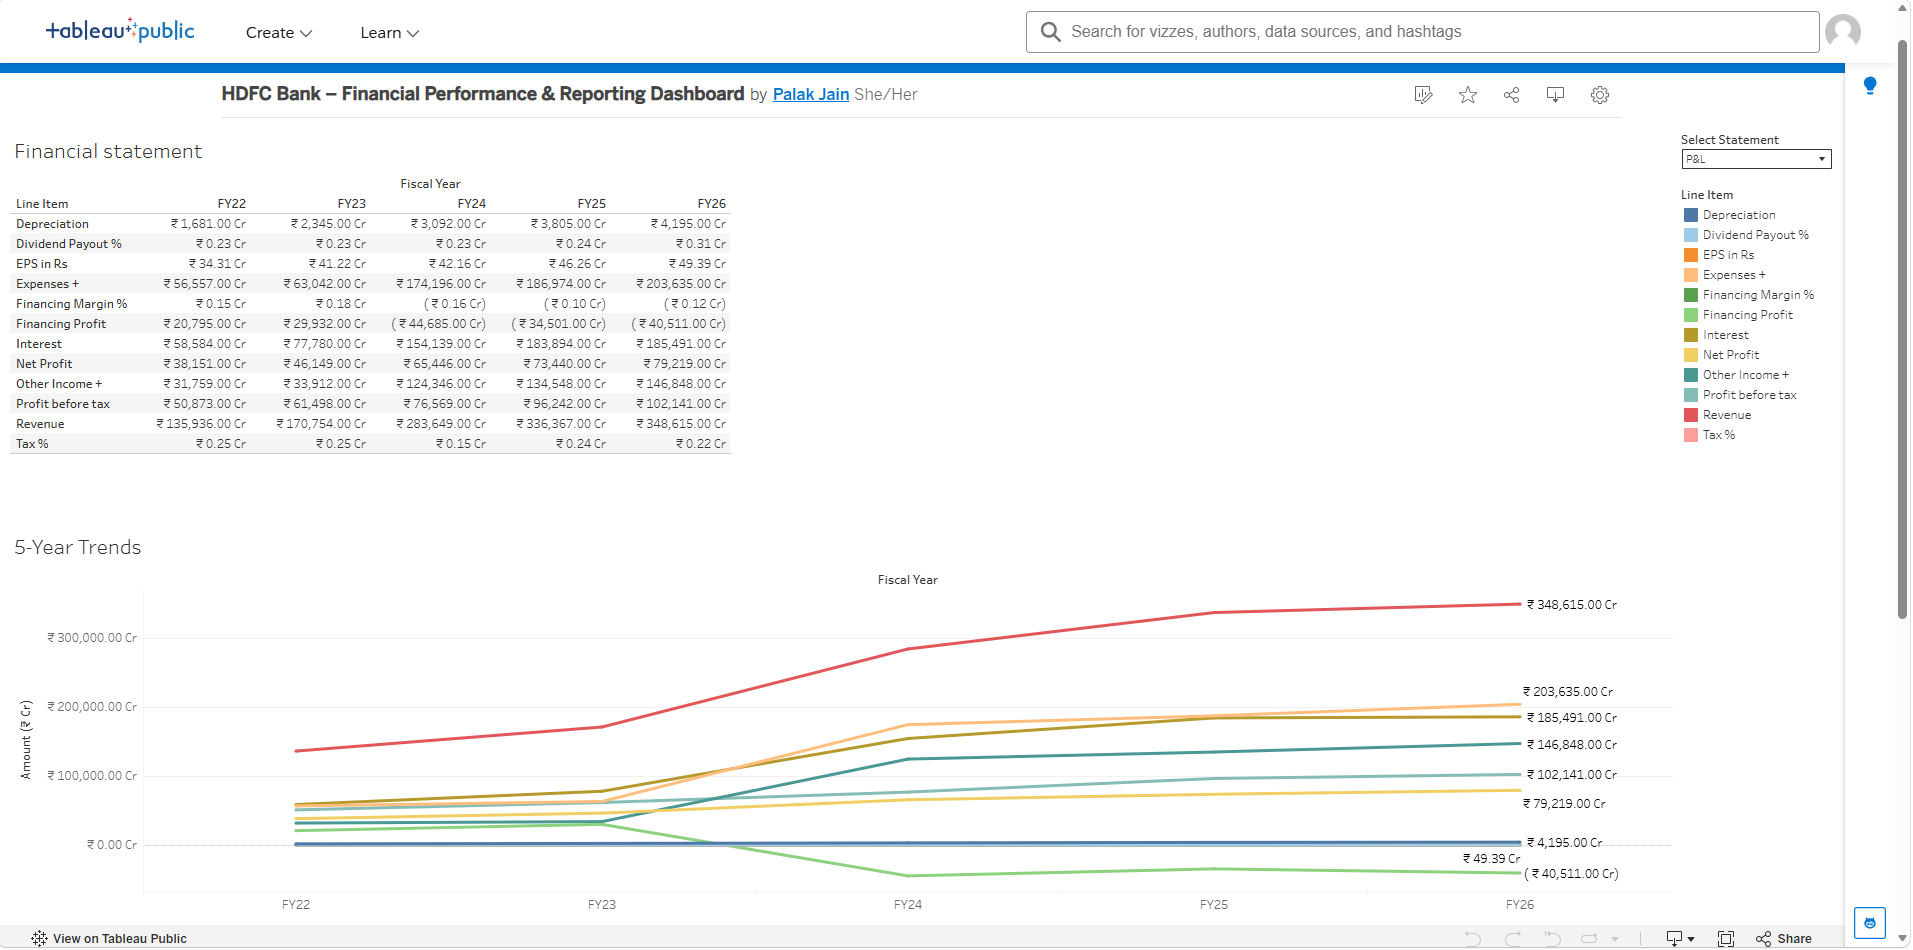

The page's visual inventory and layout, read from the dashboard file:
{"tool":"tableau","page":{"name":"Financial Dashboard","canvas":[1000,1000],"units":"permille","ordinal":0},"visuals":[{"type":"worksheet","title":"Financial statement","mark":"Automatic","rows":["Line Item"],"cols":["Fiscal Year"],"box":[4.7,8.9,897,491.1]},{"type":"parameter","param":"[Parameters].[Parameter 1056935821942784]","box":[901.7,8.9,93.6,58]},{"type":"legend","title":"5-Year Trends","param":"[federated.17mrxqf1p0plci18wticl114zk93].[none:Line Item:nk]","box":[901.7,67,93.6,296.9]},{"type":"worksheet","title":"5-Year Trends","mark":"Line","rows":["Amount (₹ Cr)"],"cols":["Fiscal Year"],"box":[4.7,500,897,491.1]}]}

Visuals, with their boxes on the dashboard's canvas, which has no fixed pixel size, in thousandths of its width and height (x1, y1, x2, y2). These are canvas units, not pixel positions in the 1913x950 screenshot, which may show the page scaled, cropped or inside an application window:
"Financial statement" worksheet: select_region(5, 9, 902, 500)
parameter: select_region(902, 9, 995, 67)
"5-Year Trends" legend: select_region(902, 67, 995, 364)
"5-Year Trends" worksheet (Line marks): select_region(5, 500, 902, 991)
